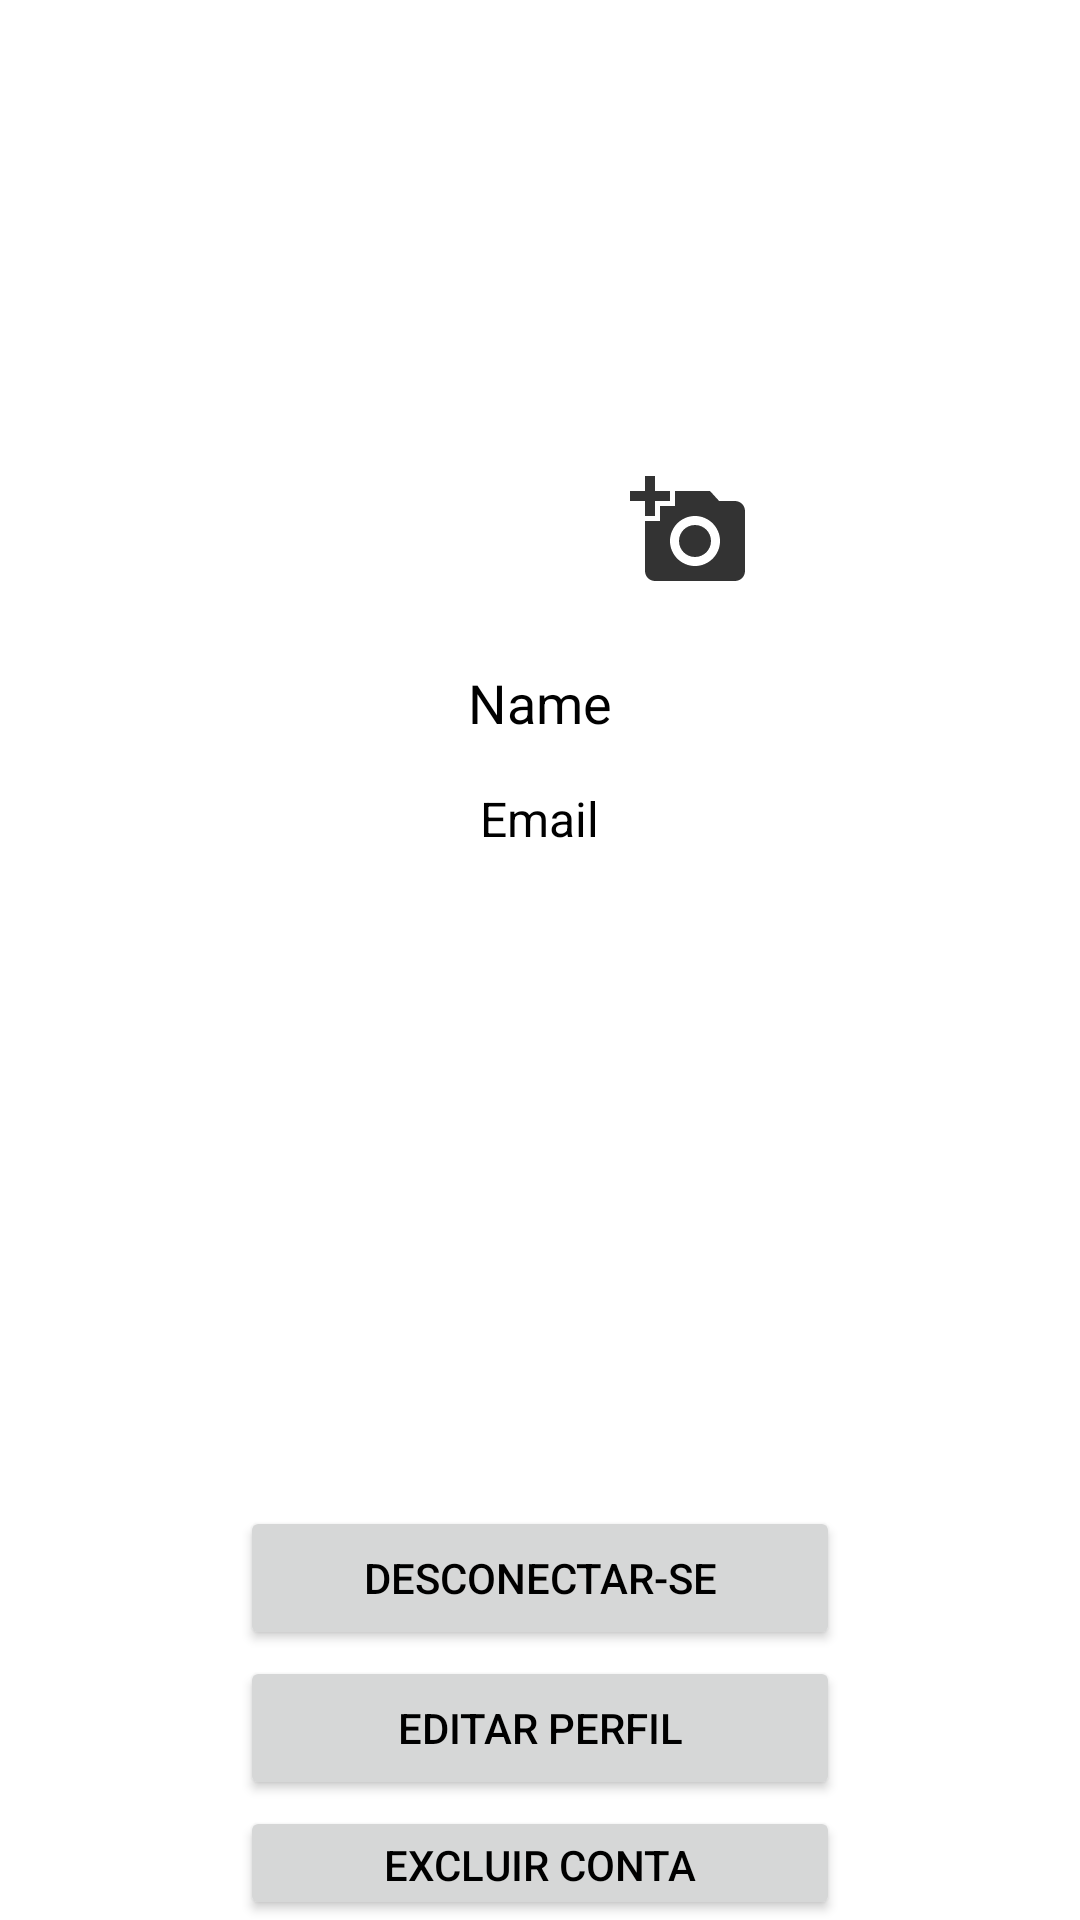

Where icons sit on this 1080×1920 app screen, as (x1, y1, x2, y2):
account photo: (630, 476, 745, 581)
